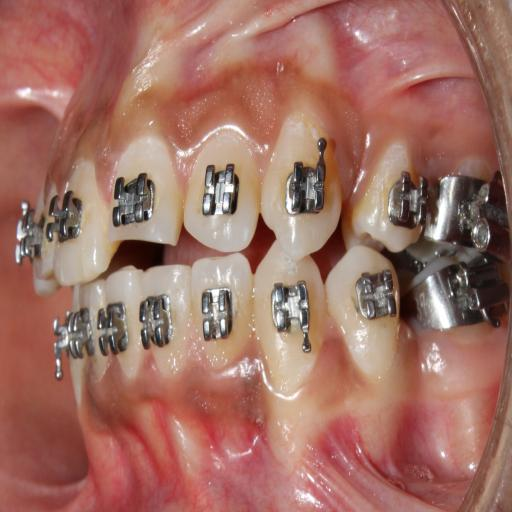correct_brace: (326, 246, 404, 382), (340, 139, 428, 253), (267, 273, 315, 351), (285, 139, 329, 216), (199, 158, 247, 223), (111, 170, 158, 234), (354, 266, 398, 326), (200, 281, 236, 345)
incorrect_brace: (184, 129, 262, 254), (192, 255, 250, 367), (380, 170, 428, 237)
